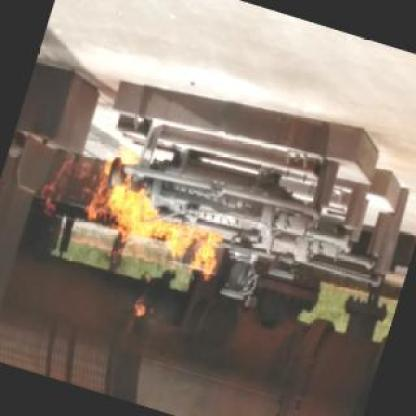Fire: (96, 176, 223, 288)
